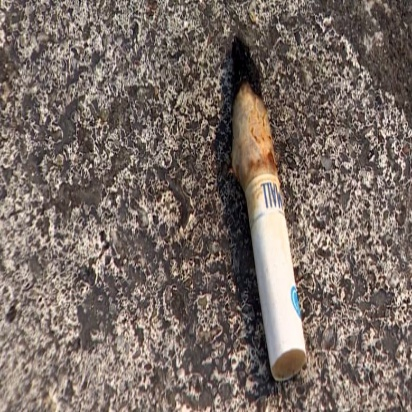cigarette: (214, 28, 315, 383)
